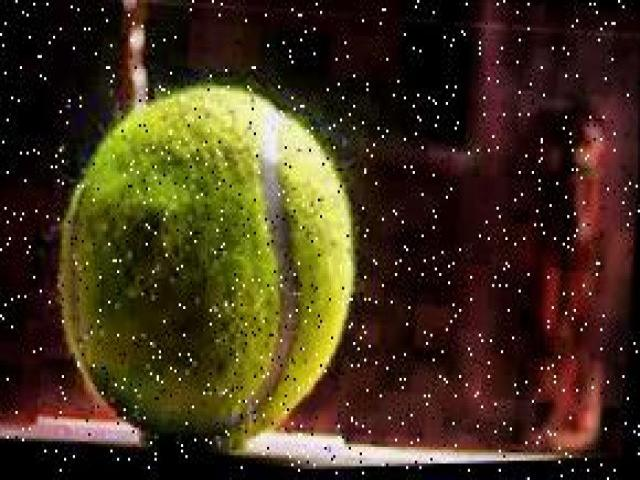tennis-ball: (57, 84, 356, 446)
